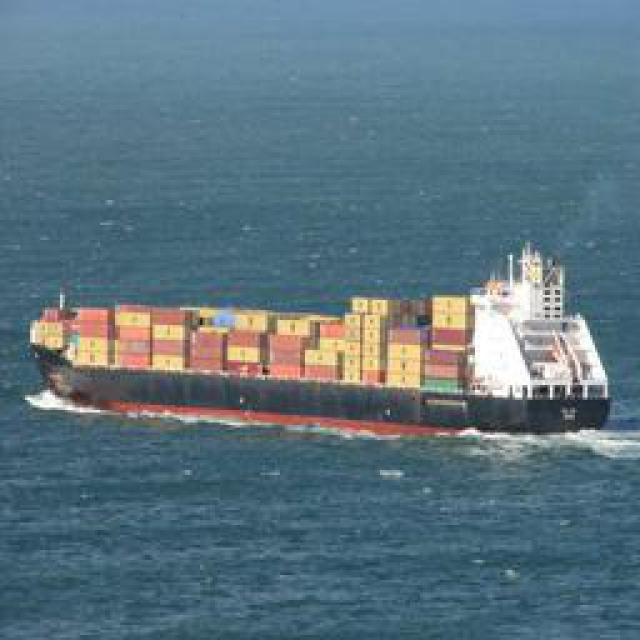Ship: (28, 251, 606, 441)
